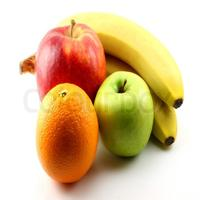apple: (26, 28, 119, 91), (98, 72, 154, 163)
banane: (94, 11, 200, 94)
orange: (34, 86, 100, 189)
